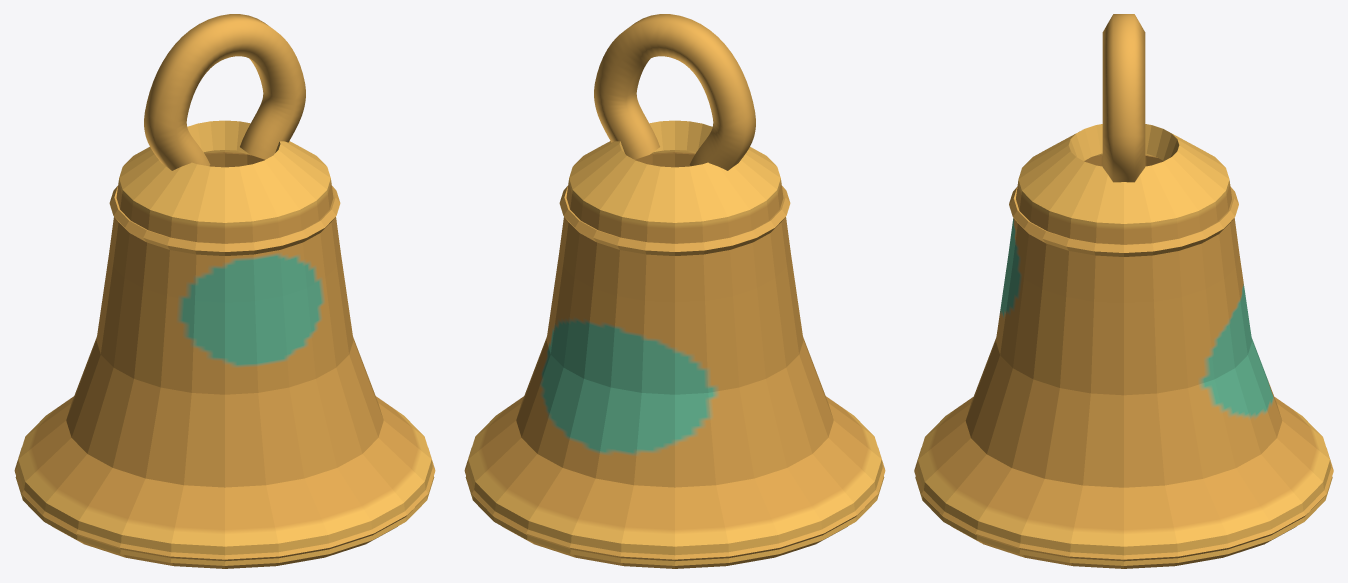
The model's file is old_bell.obj.
The picture shows the model from 3 angles, left to right: view 1: azimuth 30°, elevation 25°; view 2: azimuth 150°, elevation 25°; view 3: azimuth 270°, elevation 25°; orthographic projection.
Parts seen in each view (by area): view 1: A_HollowBellWall.001_old_bell_aged_brass, D_CastYoke.001_old_bell_rubbed_lip, B_RolledMouth.001_old_bell_rubbed_lip, B_CrownBand.001_old_bell_rubbed_lip; view 2: A_HollowBellWall.001_old_bell_aged_brass, D_CastYoke.001_old_bell_rubbed_lip, B_RolledMouth.001_old_bell_rubbed_lip, B_CrownBand.001_old_bell_rubbed_lip; view 3: A_HollowBellWall.001_old_bell_aged_brass, D_CastYoke.001_old_bell_rubbed_lip, B_RolledMouth.001_old_bell_rubbed_lip, B_CrownBand.001_old_bell_rubbed_lip.
Boxes of the visible parts, x1,y1,x2,y2 form: A_HollowBellWall.001_old_bell_aged_brass: (15,120,434,565); D_CastYoke.001_old_bell_rubbed_lip: (144,14,305,170); B_RolledMouth.001_old_bell_rubbed_lip: (14,448,435,568); B_CrownBand.001_old_bell_rubbed_lip: (109,186,340,255); A_HollowBellWall.001_old_bell_aged_brass: (465,120,884,565); D_CastYoke.001_old_bell_rubbed_lip: (594,14,755,170); B_RolledMouth.001_old_bell_rubbed_lip: (464,448,885,568); B_CrownBand.001_old_bell_rubbed_lip: (559,186,790,255); A_HollowBellWall.001_old_bell_aged_brass: (915,124,1332,565); D_CastYoke.001_old_bell_rubbed_lip: (1102,14,1145,182); B_RolledMouth.001_old_bell_rubbed_lip: (914,448,1333,568); B_CrownBand.001_old_bell_rubbed_lip: (1009,187,1238,256).
Size of the model in its own units: 1.67 by 2.25 by 1.67.
Materials: 3 (1 with a texture image).
